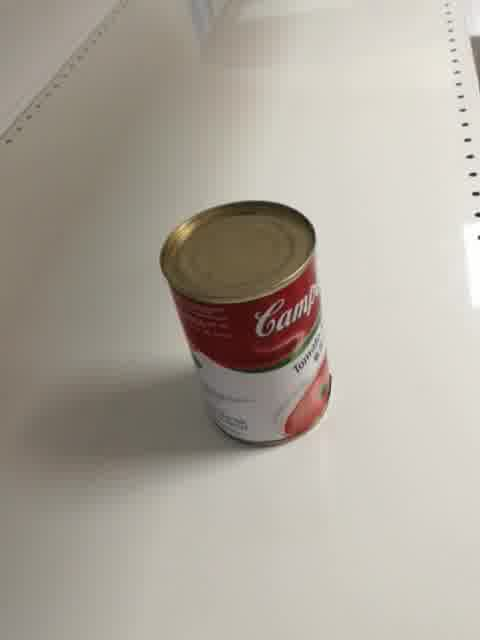tomatosoup: (158, 199, 333, 447)
